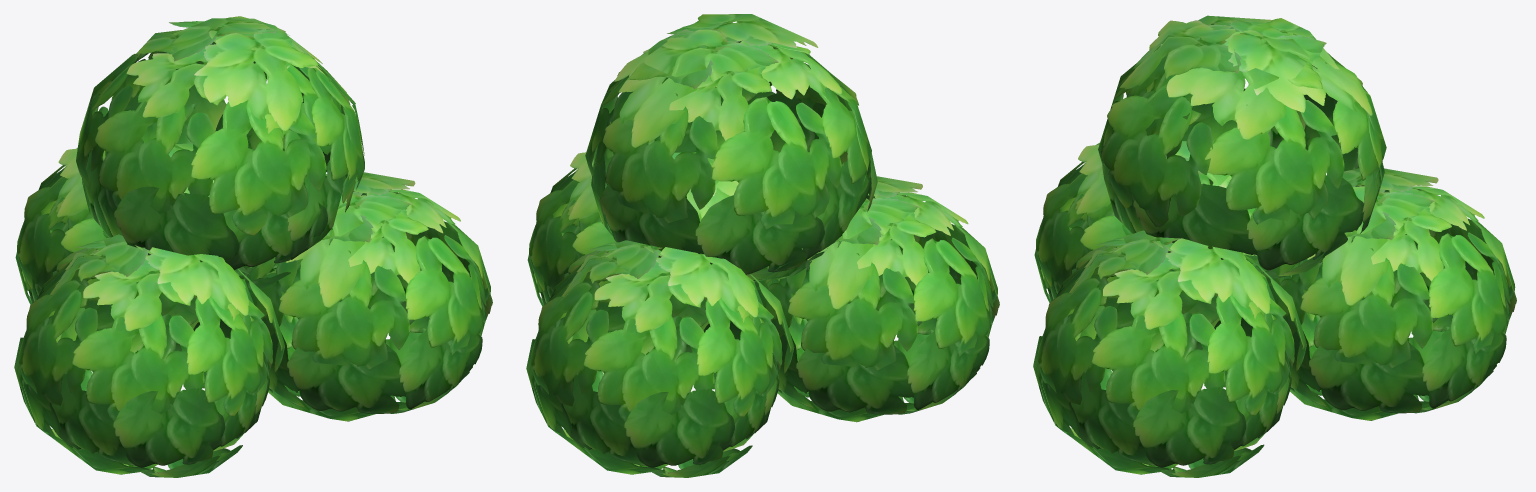
The model's file is Furniture_Plants_34_1.fbx.
3 views of the same model, side by side, from view 1: azimuth 30°, elevation 25°; view 2: azimuth 150°, elevation 25°; view 3: azimuth 270°, elevation 25° (orthographic). The views are drawn at different scales.
Parts seen in each view (by area): view 1: Furniture_Plants_34_1; view 2: Furniture_Plants_34_1; view 3: Furniture_Plants_34_1.
Part boxes in pixels (bbox=[...]): Furniture_Plants_34_1: bbox=[14, 16, 492, 477]; Furniture_Plants_34_1: bbox=[526, 14, 999, 477]; Furniture_Plants_34_1: bbox=[1033, 15, 1516, 477].
Bounding box in the file's own units: 400 × 325 × 376.
